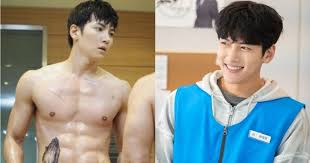people: (186, 1, 297, 163), (29, 1, 130, 163)
